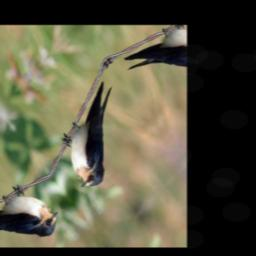Swallow: (42, 75, 149, 198)
